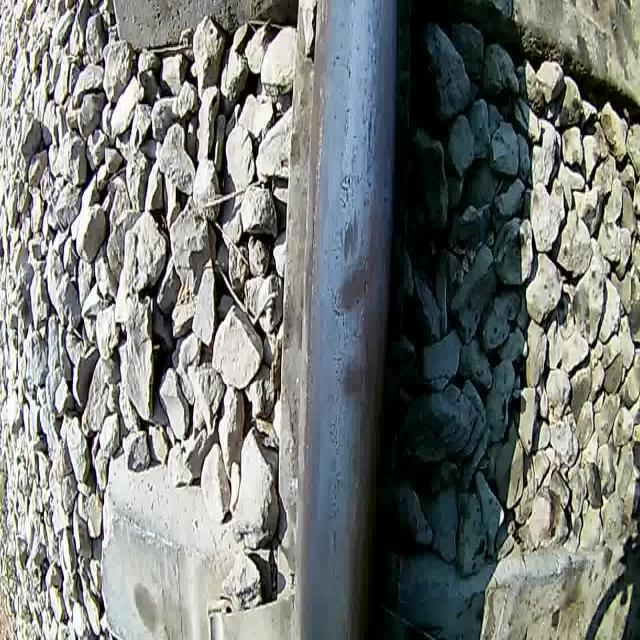Squats: (329, 205, 383, 316), (335, 344, 373, 406), (340, 210, 363, 266)
